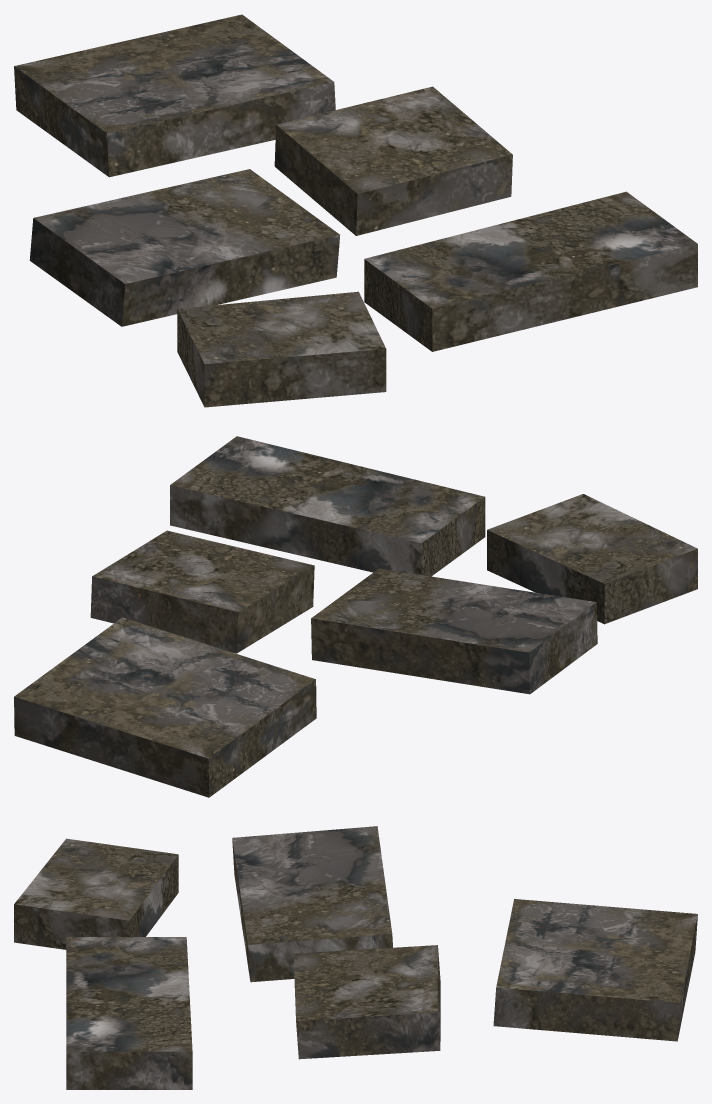
File: FreeTiles3.fbx
3 views of the same model, one above another, from view 1: azimuth 30°, elevation 25°; view 2: azimuth 150°, elevation 25°; view 3: azimuth 270°, elevation 25° (orthographic). The views are drawn at different scales.
Visible parts, largest first — view 1: FreeTiles3; view 2: FreeTiles3; view 3: FreeTiles3.
Boxes of the visible parts, left/top/right/bottom form: FreeTiles3: left=14, top=14, right=697, bottom=407; FreeTiles3: left=14, top=436, right=697, bottom=797; FreeTiles3: left=14, top=826, right=697, bottom=1089.
Bounding box in the file's own units: 239 × 324 × 29.72.
